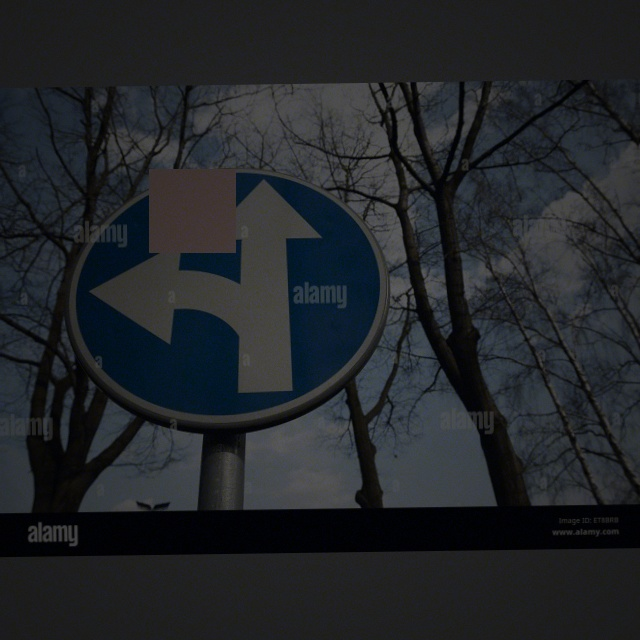Compulsory_Ahead_or_Turn_Left: (57, 161, 388, 428)
